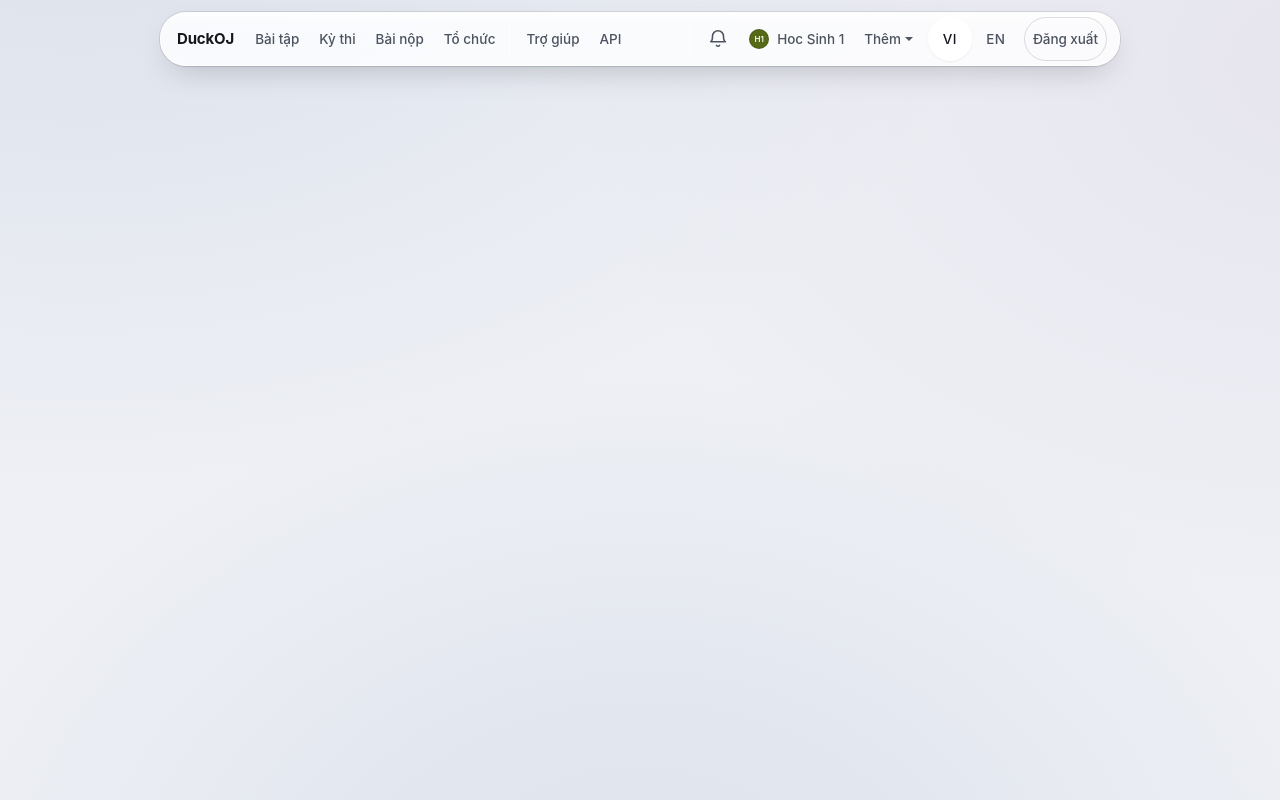
Test: the desktop bar groups what used to be one flat row › collapses the five account pages and the theme behind one overflow button (D139)
This screenshot has width=1280, height=800.
Check: the button "Đăng xuất" is shown, box [1024,17,1107,61]
Check: the link "Tiến độ" is not shown
Click the button "Thêm".
click(889, 39)  # box [855,17,922,61]
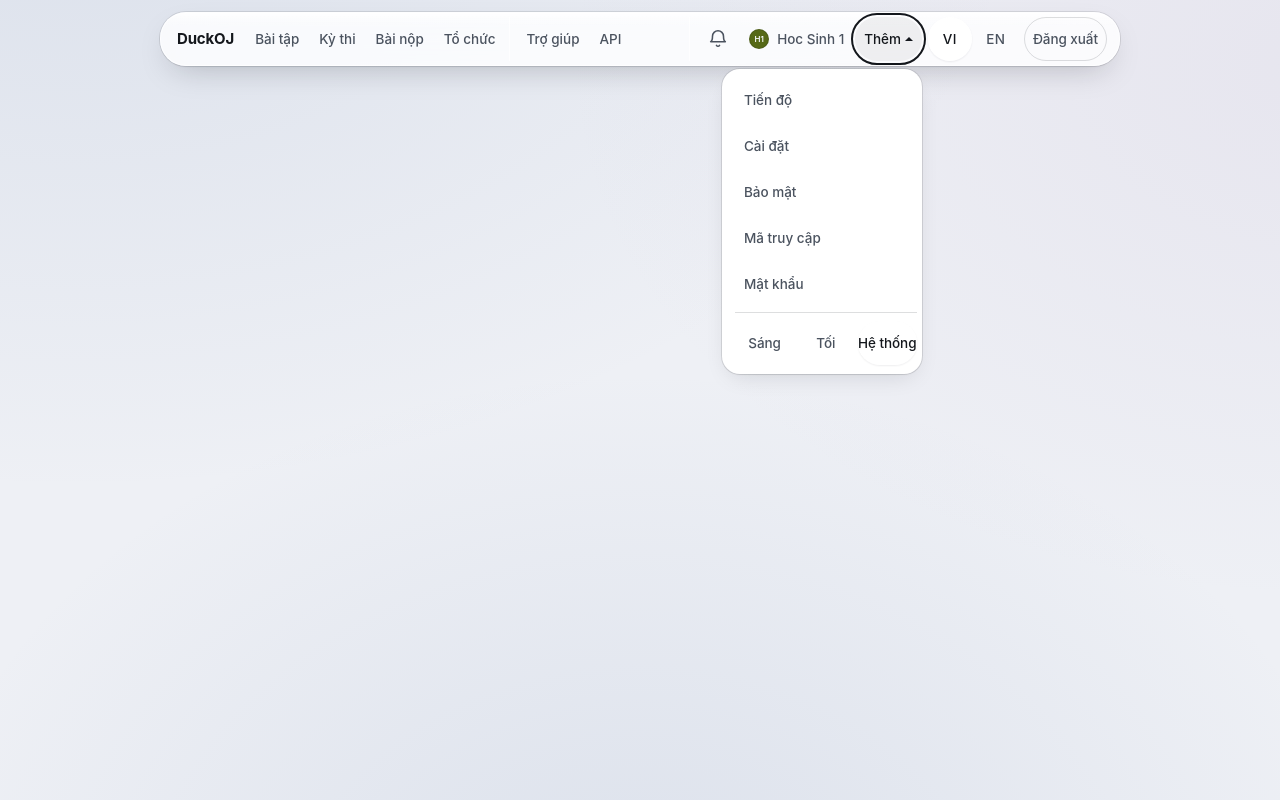
Check: the button "Thêm" is expanded, box [855,17,922,61]
Check: the link "Tiến độ" is shown, box [744,92,792,108]
Check: the link "Cài đặt" is shown, box [744,138,789,154]
Press Escape
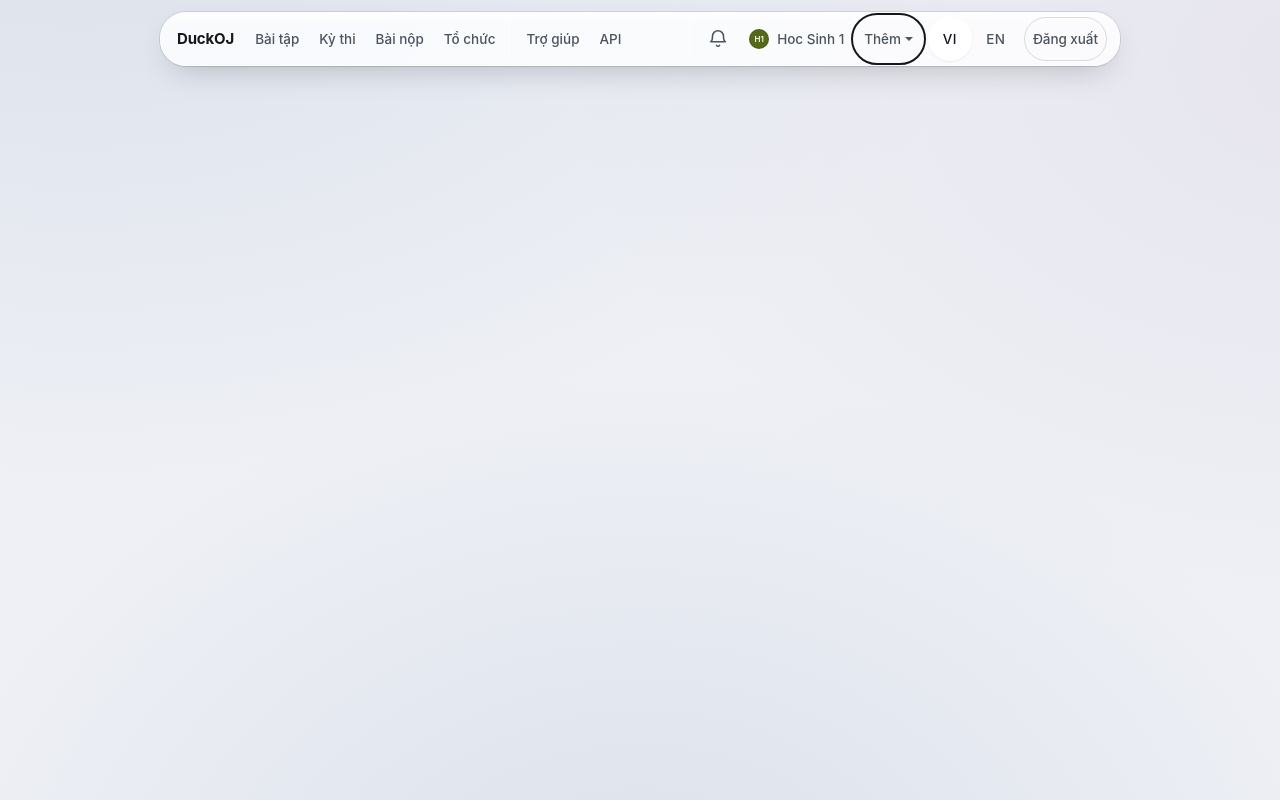
Check: the button "Thêm" is collapsed, box [855,17,922,61]
